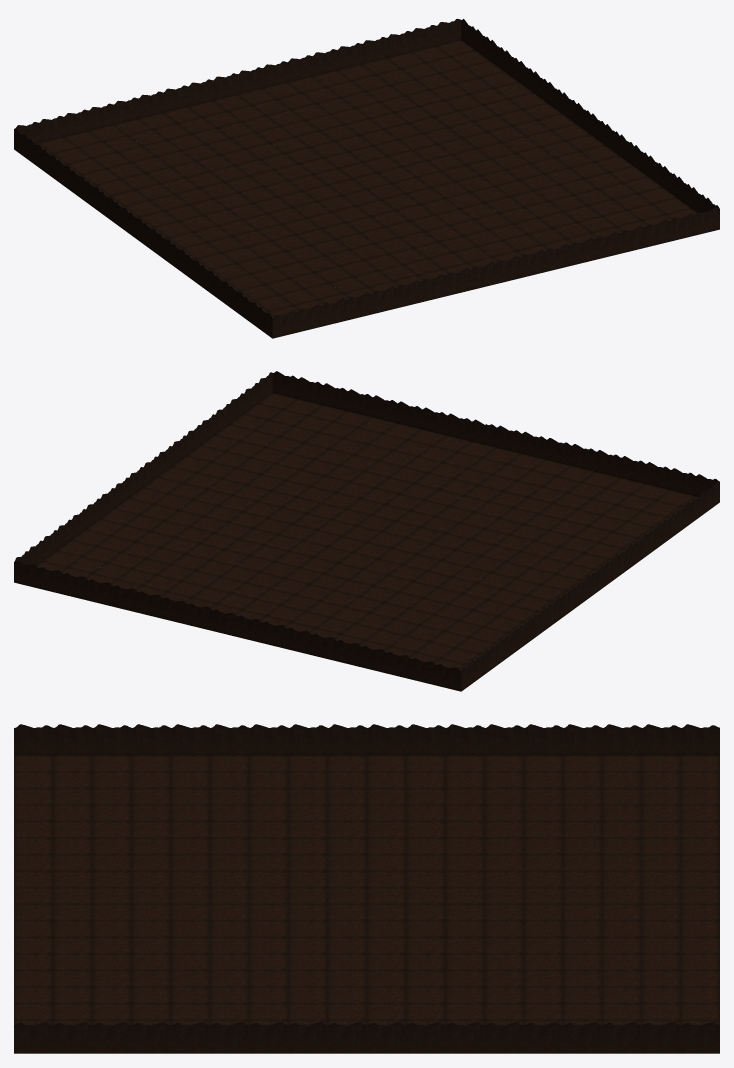
File: walleGround_080520.dae
The picture shows the model from 3 angles, top to bottom: view 1: azimuth 30°, elevation 25°; view 2: azimuth 150°, elevation 25°; view 3: azimuth 270°, elevation 25°; orthographic projection. The views are drawn at different scales.
Parts seen in each view (by area): view 1: pPlane1365, pPlane1352, pPlane1364, pPlane1353, pPlane1357, pPlane1366, pPlane1358, pPlane1351, pPlane1359, pPlane1280, pPlane1282, pPlane1287 (+23 smaller); view 2: pPlane987, pPlane1280, pPlane1287, pPlane1292, pPlane1279, pPlane1286, pPlane1293, pPlane1284, pPlane1285, pPlane1291, pPlane1360, pPlane1361 (+23 smaller); view 3: pPlane1335, pPlane1344, pPlane1339, pPlane1349, pPlane1336, pPlane1340, pPlane1343, pPlane1345, pPlane1348, pPlane1350, pPlane1333, pPlane1334 (+312 smaller).
Part boxes in pixels (x1,y1,x2,y2): pPlane1365: (620, 225, 645, 253); pPlane1352: (297, 304, 322, 332); pPlane1364: (595, 231, 620, 259); pPlane1353: (322, 298, 347, 326); pPlane1357: (421, 274, 446, 302); pPlane1366: (645, 219, 670, 247); pPlane1358: (446, 268, 471, 295); pPlane1351: (272, 310, 297, 338); pPlane1359: (471, 262, 496, 289); pPlane1280: (63, 109, 88, 136); pPlane1282: (113, 97, 138, 124); pPlane1287: (237, 67, 262, 94); pPlane987: (411, 658, 436, 685); pPlane1280: (386, 652, 411, 679); pPlane1287: (212, 609, 237, 636); pPlane1292: (88, 579, 113, 606); pPlane1279: (436, 664, 461, 691); pPlane1286: (237, 615, 262, 643); pPlane1293: (63, 573, 88, 600); pPlane1284: (287, 628, 312, 655); pPlane1285: (262, 621, 287, 648); pPlane1291: (113, 585, 138, 612); pPlane1360: (471, 419, 496, 447); pPlane1361: (446, 413, 471, 441); pPlane1335: (445, 1022, 484, 1053); pPlane1344: (92, 1022, 131, 1053); pPlane1339: (288, 1022, 327, 1053); pPlane1349: (641, 1022, 680, 1053); pPlane1336: (406, 1022, 445, 1053); pPlane1340: (249, 1022, 288, 1053); pPlane1343: (131, 1022, 170, 1053); pPlane1345: (484, 1022, 523, 1053); pPlane1348: (602, 1022, 641, 1053); pPlane1350: (53, 1022, 92, 1053); pPlane1333: (680, 1022, 719, 1053); pPlane1334: (14, 1022, 53, 1053).
Bounding box in the file's own units: 721 × 40.31 × 722.
